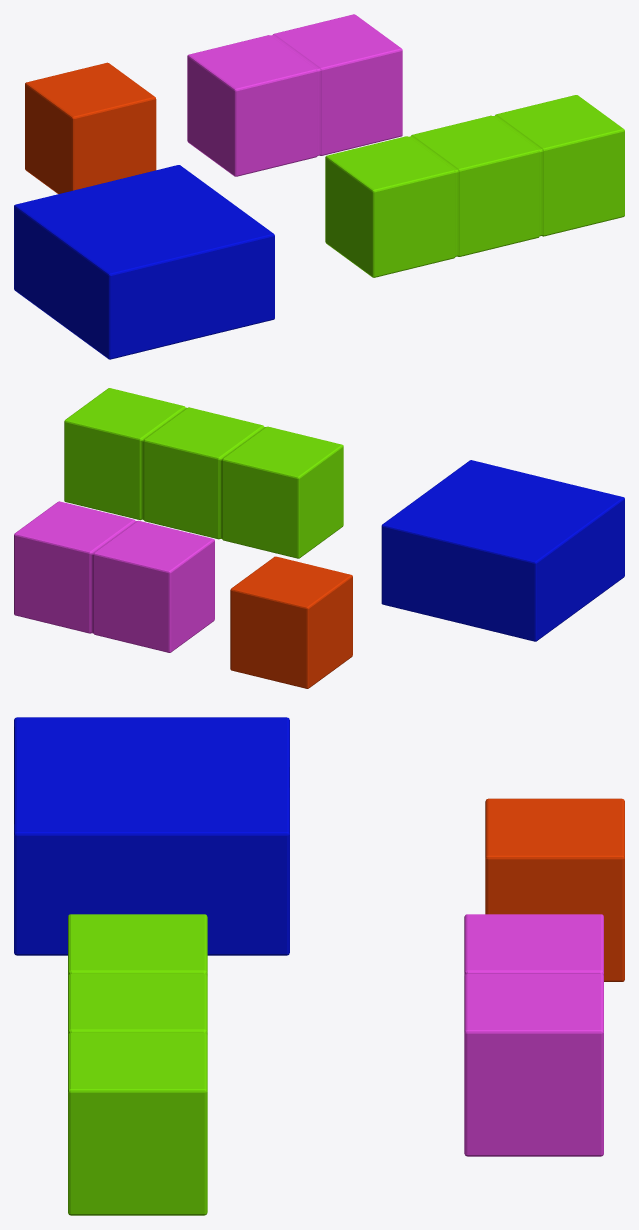
Rendered from figuras geometricas.fbx.
3 views of the same model, one above another, from view 1: azimuth 30°, elevation 25°; view 2: azimuth 150°, elevation 25°; view 3: azimuth 270°, elevation 25° (orthographic). The views are drawn at different scales.
Parts seen in each view (by area): view 1: Cube.007, Cube.009, Cube.006, Cube.008; view 2: Cube.007, Cube.009, Cube.006, Cube.008; view 3: Cube.009, Cube.007, Cube.006, Cube.008.
Part boxes in pixels (x1,y1,x2,y2): Cube.007: (325, 95, 624, 277); Cube.009: (14, 165, 274, 359); Cube.006: (187, 14, 402, 176); Cube.008: (25, 62, 156, 193); Cube.007: (64, 388, 343, 558); Cube.009: (381, 460, 624, 641); Cube.006: (14, 501, 214, 652); Cube.008: (230, 556, 352, 688); Cube.009: (14, 717, 289, 955); Cube.007: (68, 914, 207, 1215); Cube.006: (464, 914, 603, 1156); Cube.008: (485, 798, 624, 981).
Bounding box in the file's own units: 1272 × 211 × 875.
